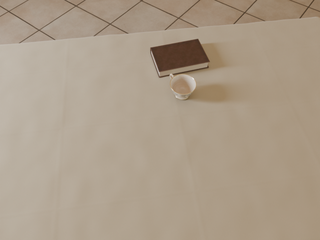book: (150, 39, 210, 77)
cup: (169, 73, 196, 100)
